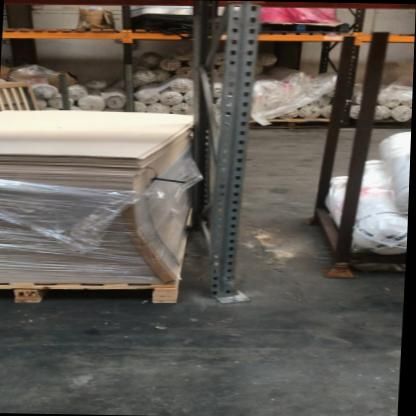vertical_damage: (203, 249, 255, 309)
